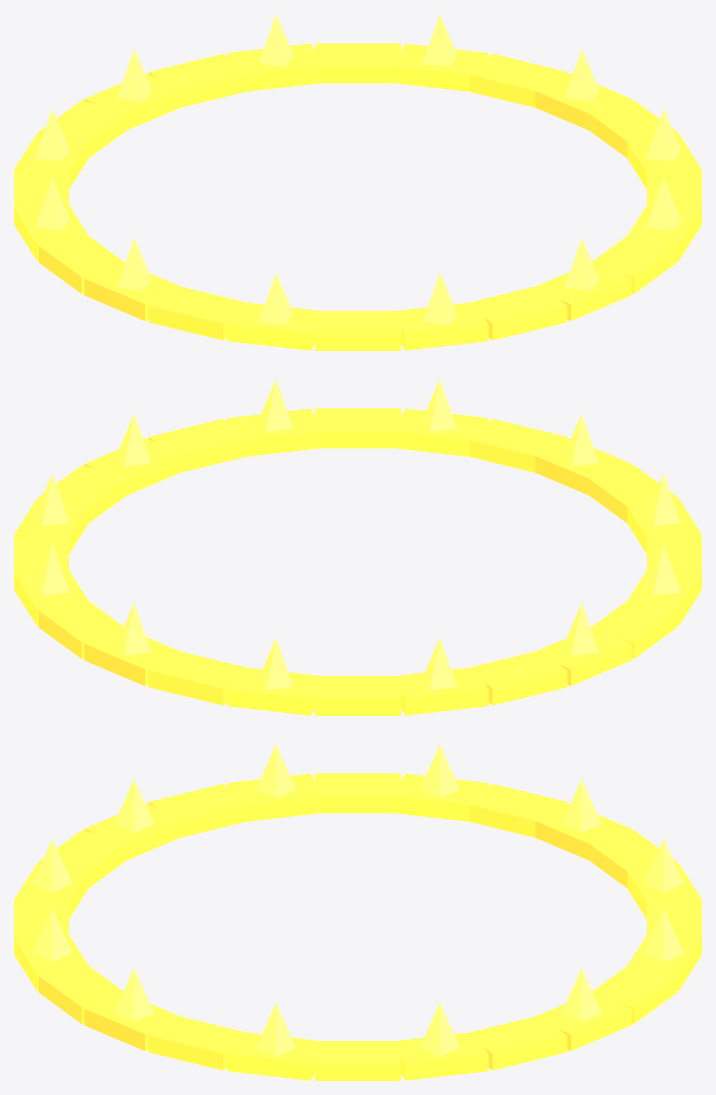
File: weapon_holy_aura.glb
3 views of the same model, one above another, from view 1: azimuth 30°, elevation 25°; view 2: azimuth 150°, elevation 25°; view 3: azimuth 270°, elevation 25° (orthographic).
Visible parts, largest first — view 1: weapon_holy_aura; view 2: weapon_holy_aura; view 3: weapon_holy_aura.
Boxes of the visible parts, left/top/right/bottom form: weapon_holy_aura: left=14, top=14, right=701, bottom=350; weapon_holy_aura: left=14, top=379, right=701, bottom=715; weapon_holy_aura: left=14, top=744, right=701, bottom=1080.
Size of the model in its own units: 2 by 0.2 by 2.
